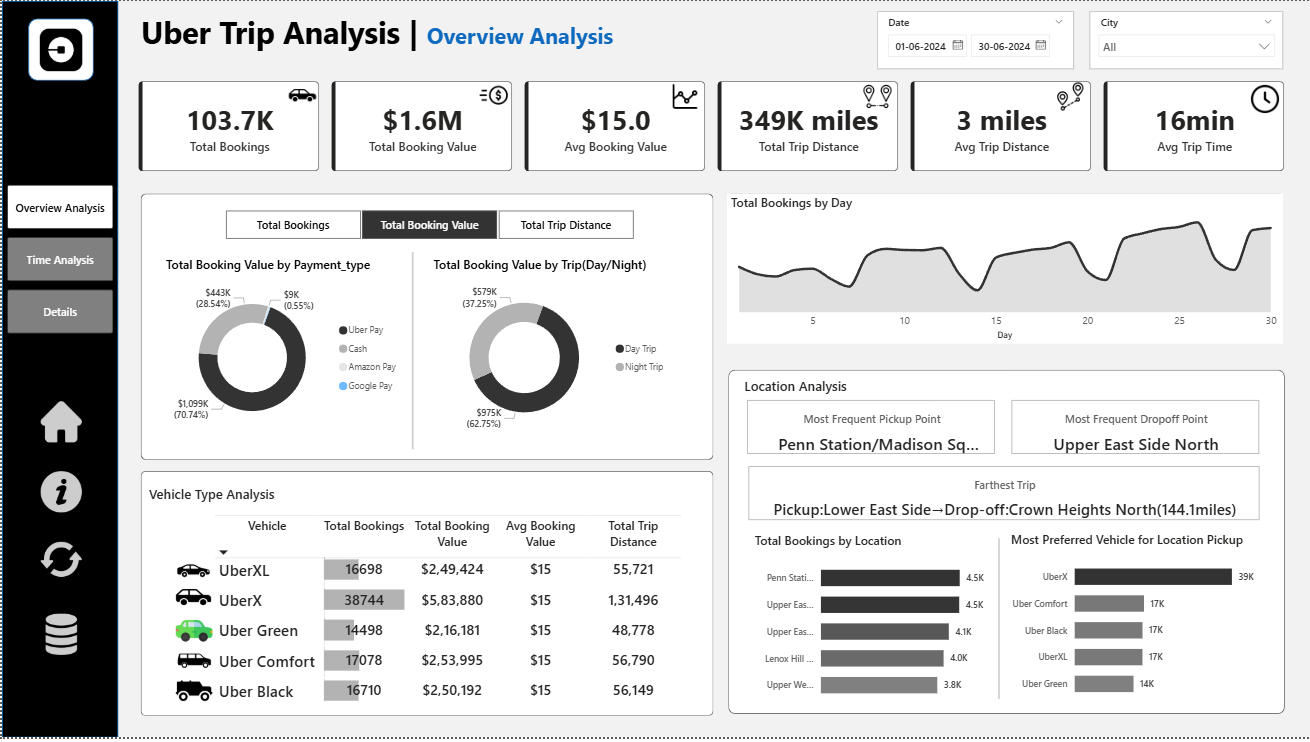

This screenshot's page, from the dashboard's own definition file:
{"tool":"powerbi","page":{"name":"Overview Analysis","canvas":[1600,900],"ordinal":0},"visuals":[{"type":"shape","box":[0,0,142,900.7],"z":0},{"type":"textbox","box":[165,7,943.2,68.8],"z":1000},{"type":"cardVisual","fields":{"Data":["Trip Details.Total Bookings","Trip Details.Total Booking Amount","Trip Details.Avg Booking Amount","Trip Details.Total Trip Distance","Trip Details.Avg Trip Distance","Trip Details.Avg Trip Time"]},"box":[162,93,1415,120],"z":2000},{"type":"image","box":[578.9,93.1,44.5,44.5],"z":3000},{"type":"image","box":[1285.3,95.1,44.5,44.5],"z":4000},{"type":"image","box":[1048.5,95.1,44.5,44.5],"z":5000},{"type":"image","box":[1522.1,97.2,44.5,44.5],"z":6000},{"type":"image","box":[813.7,95.1,44.5,44.5],"z":7000},{"type":"shape","box":[170,234.8,700.3,325.9],"z":8000},{"type":"image","box":[346.1,93.1,44.5,44.5],"z":9000},{"type":"slicer","fields":{"Values":["Dynamic Measure.Dynamic Measure"]},"box":[246.9,249,548.5,48.6],"z":10000},{"type":"donutChart","fields":{"Y":["Trip Details.Total Booking Value"],"Category":["Trip Details.Payment_type"]},"box":[196.3,311.7,300,228.7],"z":11000},{"type":"donutChart","fields":{"Y":["Trip Details.Total Booking Value"],"Category":["Trip Details.Trip Type(Day/Night)"]},"box":[522.2,311.7,300,228.7],"z":12000},{"type":"shape","box":[170,574.8,700.3,299.6],"z":13000},{"type":"pivotTable","fields":{"Rows":["Trip Details.Vehicle"],"Values":["Trip Details.Total Bookings","Trip Details.Total Booking Value","Trip Details.Avg Booking Value","Trip Details.Total Trip Distance Measure"]},"box":[255,623.4,609.2,244.9],"z":14000},{"type":"image","box":[192.9,670,83,54.6],"z":15000},{"type":"image","box":[192.9,702.3,83,54.6],"z":16000},{"type":"image","box":[193.9,742.8,81,54.6],"z":17000},{"type":"image","box":[193.9,779.3,81,54.6],"z":18000},{"type":"image","box":[193.9,815.7,81,54.6],"z":19000},{"type":"card","fields":{"Values":["Trip Details.Title for Grid"]},"box":[157.9,572.8,198.4,62.7],"z":20000},{"type":"shape","box":[886.5,234.8,680.1,184.2],"z":21000},{"type":"areaChart","fields":{"Category":["Calendar Table.Date.Variation.Date Hierarchy.Day"],"Y":["Trip Details.Total Bookings"]},"box":[886.5,234.8,680.1,184.2],"z":22000},{"type":"shape","box":[887.7,450.4,680.6,420.8],"z":23000},{"type":"cardVisual","fields":{"Data":["Trip Details.Most Frequent Pickup Point","Trip Details.Most Frequent Dropoff Point"]},"box":[906.8,483.7,637.6,76.9],"z":24000},{"type":"cardVisual","fields":{"Data":["Trip Details.Farthest Trip"]},"box":[907.6,564,636,76.6],"z":25000},{"type":"barChart","fields":{"Category":["Location Table.Location"],"Y":["Trip Details.Total Bookings"]},"box":[914.9,649.7,293.5,216.6],"z":26000},{"type":"barChart","title":"Most Preferred Vehicle for Location Pickup","fields":{"Category":["Trip Details.Vehicle"],"Y":["CountNonNull(Trip Details.PULocationID)"]},"box":[1228.6,647.7,315.7,216.6],"z":27000},{"type":"shape","box":[483.7,307.7,38.5,240.9],"z":28000},{"type":"shape","box":[1200.3,657.8,38.5,196.3],"z":29000},{"type":"card","fields":{"Values":["Trip Details.Title for Location"]},"box":[892.6,441.2,155.9,62.7],"z":30000},{"type":"slicer","fields":{"Values":["Calendar Table.Date"]},"box":[1070.7,12.1,240.9,70.8],"z":31000},{"type":"slicer","fields":{"Values":["Location Table.City"]},"box":[1329.8,12.1,236.8,70.8],"z":32000},{"type":"shape","box":[32,22,80,76],"z":33000,"group":"g1"},{"type":"pageNavigator","box":[6,224,130,184],"z":33000},{"type":"image","box":[38,30,68,62],"z":34000,"group":"g1"},{"type":"group","id":"g1","title":"Group 1","box":[32,22,80,76],"z":34000},{"type":"image","box":[32,484,80,60],"z":35000},{"type":"image","box":[32,570,80,60],"z":36000},{"type":"image","box":[32,652,80,60],"z":37000},{"type":"image","box":[32,744,80,60],"z":38000}]}

Visuals, with their boxes on the page's 1600x900 design canvas (x1, y1, x2, y2). These are canvas units, not pixel positions in the 1310x742 screenshot, which may show the page scaled, cropped or inside an application window:
shape: <box>0,0,142,901</box>
textbox: <box>165,7,1108,76</box>
cardVisual - Trip Details.Total Bookings x Trip Details.Total Booking Amount: <box>162,93,1577,213</box>
image: <box>579,93,623,138</box>
image: <box>1285,95,1330,140</box>
image: <box>1048,95,1093,140</box>
image: <box>1522,97,1567,142</box>
image: <box>814,95,858,140</box>
shape: <box>170,235,870,561</box>
image: <box>346,93,391,138</box>
slicer - Dynamic Measure.Dynamic Measure: <box>247,249,795,298</box>
donutChart - Trip Details.Total Booking Value x Trip Details.Payment_type: <box>196,312,496,540</box>
donutChart - Trip Details.Total Booking Value x Trip Details.Trip Type(Day/Night): <box>522,312,822,540</box>
shape: <box>170,575,870,874</box>
pivotTable - Trip Details.Vehicle x Trip Details.Total Bookings: <box>255,623,864,868</box>
image: <box>193,670,276,725</box>
image: <box>193,702,276,757</box>
image: <box>194,743,275,797</box>
image: <box>194,779,275,834</box>
image: <box>194,816,275,870</box>
card - Trip Details.Title for Grid: <box>158,573,356,636</box>
shape: <box>886,235,1567,419</box>
areaChart - Calendar Table.Date.Variation.Date Hierarchy.Day x Trip Details.Total Bookings: <box>886,235,1567,419</box>
shape: <box>888,450,1568,871</box>
cardVisual - Trip Details.Most Frequent Pickup Point x Trip Details.Most Frequent Dropoff Point: <box>907,484,1544,561</box>
cardVisual - Trip Details.Farthest Trip: <box>908,564,1544,641</box>
barChart - Location Table.Location x Trip Details.Total Bookings: <box>915,650,1208,866</box>
"Most Preferred Vehicle for Location Pickup" barChart: <box>1229,648,1544,864</box>
shape: <box>484,308,522,549</box>
shape: <box>1200,658,1239,854</box>
card - Trip Details.Title for Location: <box>893,441,1048,504</box>
slicer - Calendar Table.Date: <box>1071,12,1312,83</box>
slicer - Location Table.City: <box>1330,12,1567,83</box>
shape: <box>32,22,112,98</box>
pageNavigator: <box>6,224,136,408</box>
image: <box>38,30,106,92</box>
"Group 1" group: <box>32,22,112,98</box>
image: <box>32,484,112,544</box>
image: <box>32,570,112,630</box>
image: <box>32,652,112,712</box>
image: <box>32,744,112,804</box>
